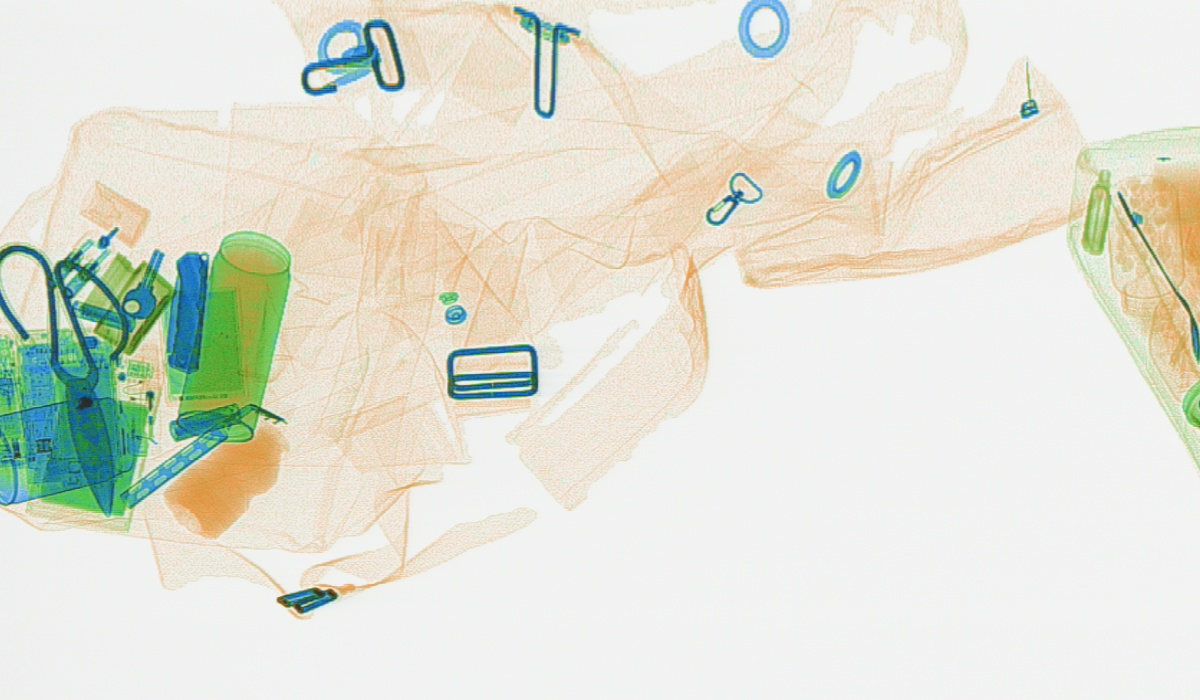knife: (163, 245, 214, 377)
lighter: (119, 334, 167, 460)
scissors: (1, 239, 132, 519)
